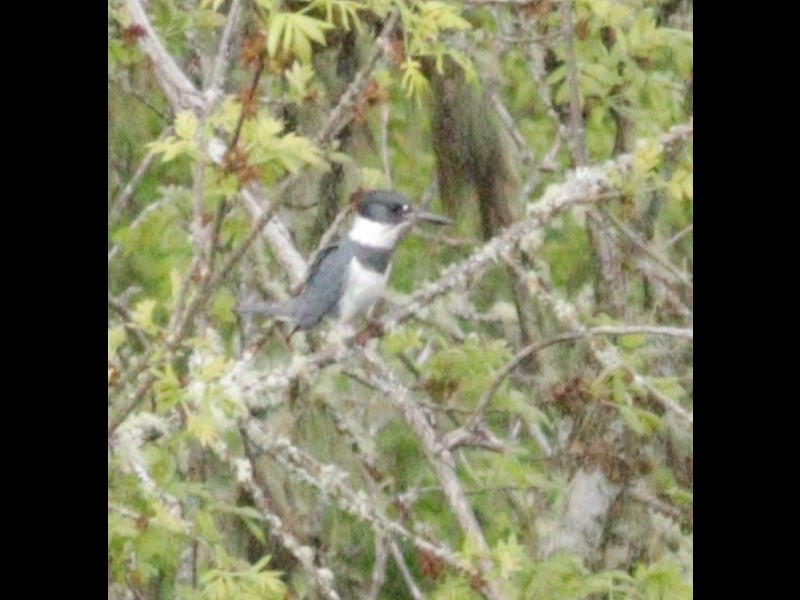kingfisher: (240, 190, 451, 350)
